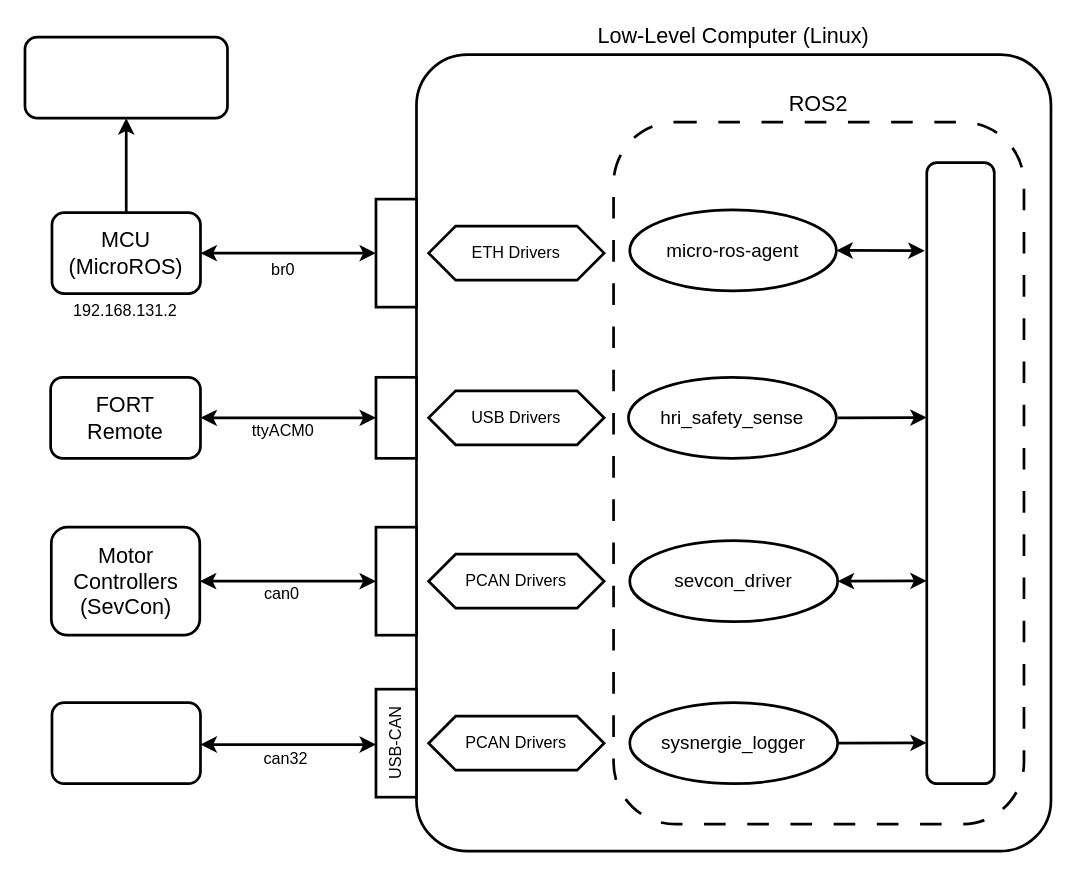
Some shapes in this 1075 by 875 pixel diagram are drawn without their labels. Here are the shapes that lost their labels. From the top down, the centre of each, then its label:
At point 125,77: "LEDs / E-Stops".
At point 395,252: "Ethernet".
At point 395,417: "USB".
At point 960,472: "RMW (Zenoh)".
At point 395,580: "PCI-CAN".
At point 125,742: "Batteries (Sysnergie)".
